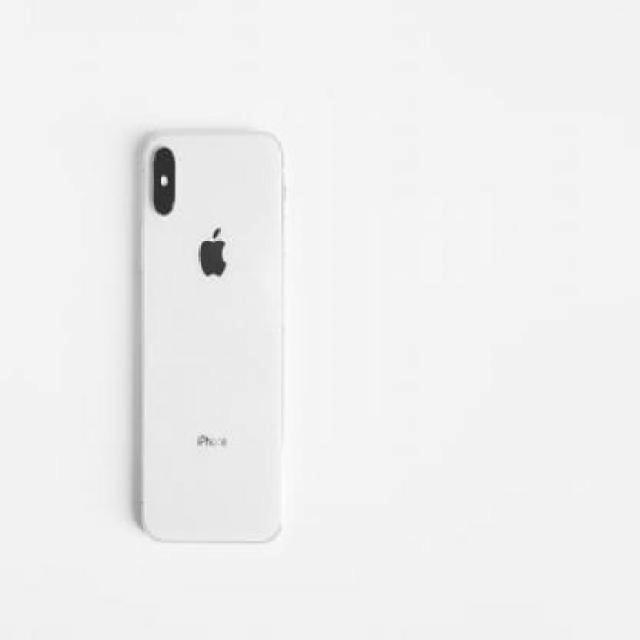fake: (142, 126, 281, 546)
